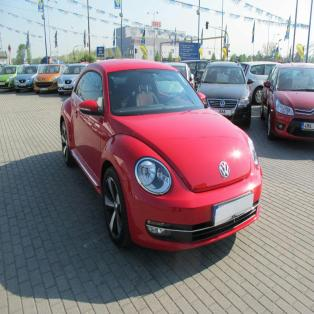Auto: (60, 60, 263, 254)
